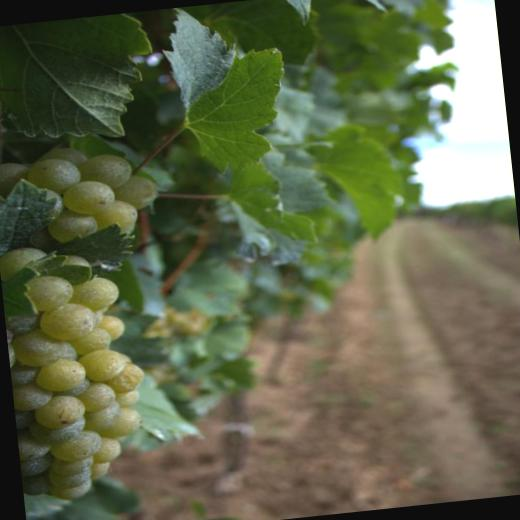Orange: (0, 138, 192, 502)
